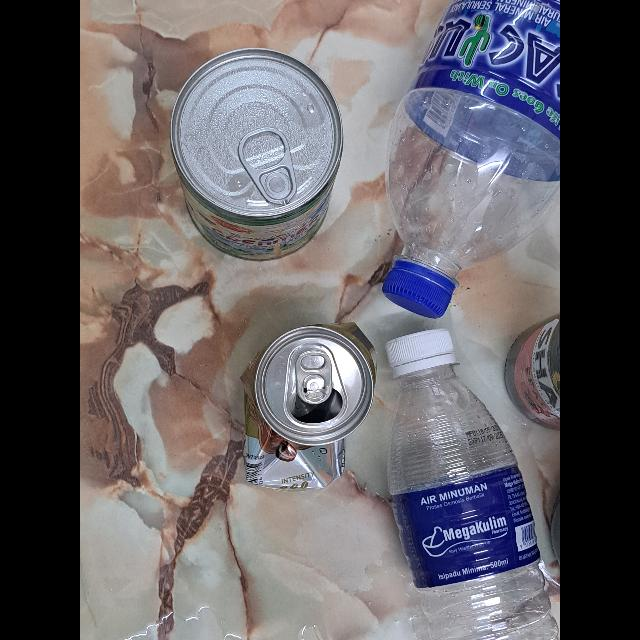aba de lata: (238, 127, 298, 205), (297, 350, 333, 402)
garrafa de vidro: (504, 314, 560, 428)
garrafa plástica: (386, 0, 560, 282), (390, 364, 560, 640)
lata: (170, 46, 344, 262), (238, 320, 378, 490)
tampa plástica: (386, 262, 454, 320), (386, 328, 456, 374)
